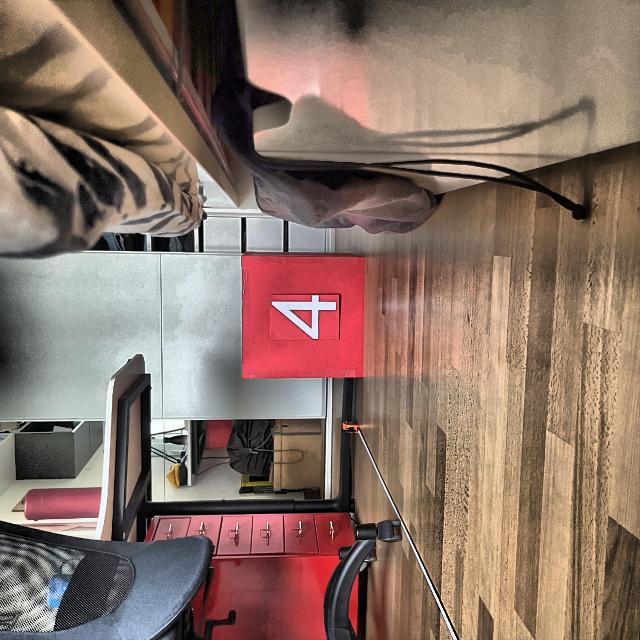four: (270, 295, 336, 340)
red box: (242, 250, 367, 380)
